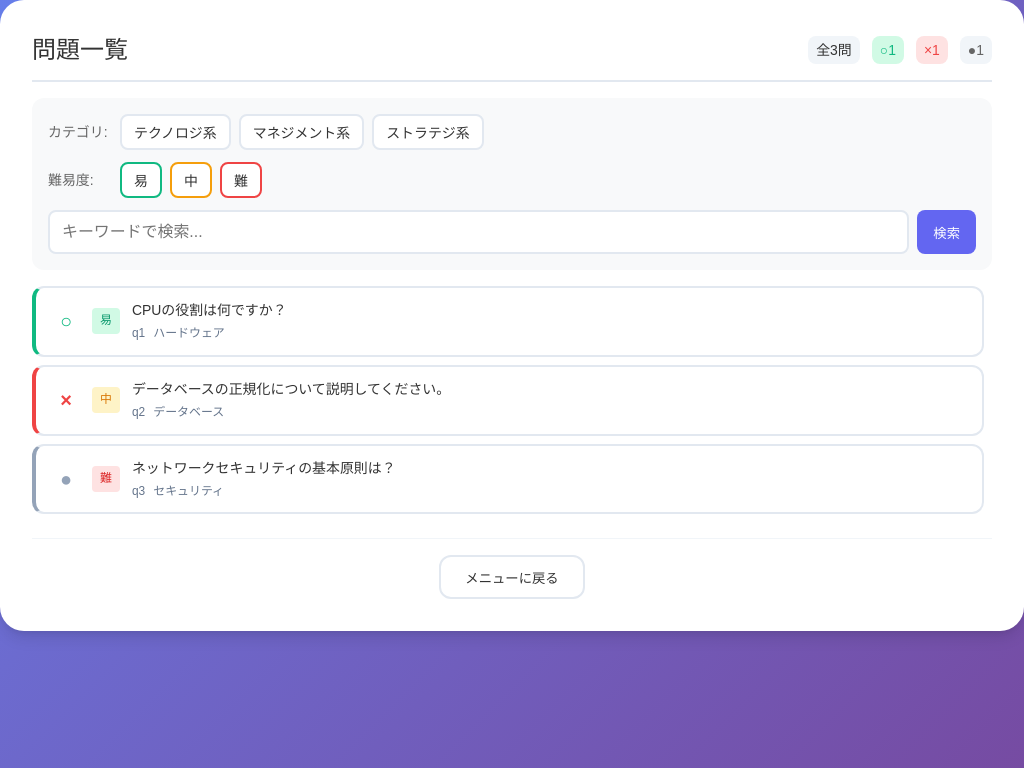
Test: QuestionList › search filter › should show empty message when no results
Expected: the text "CPUの役割は何ですか？" is shown, [132,302,287,318]
Type "NONEXISTENT" into the field with placeholder "キーワードで検索...".
click(479, 232); type("NONEXISTENT")  # box [48,210,909,254]
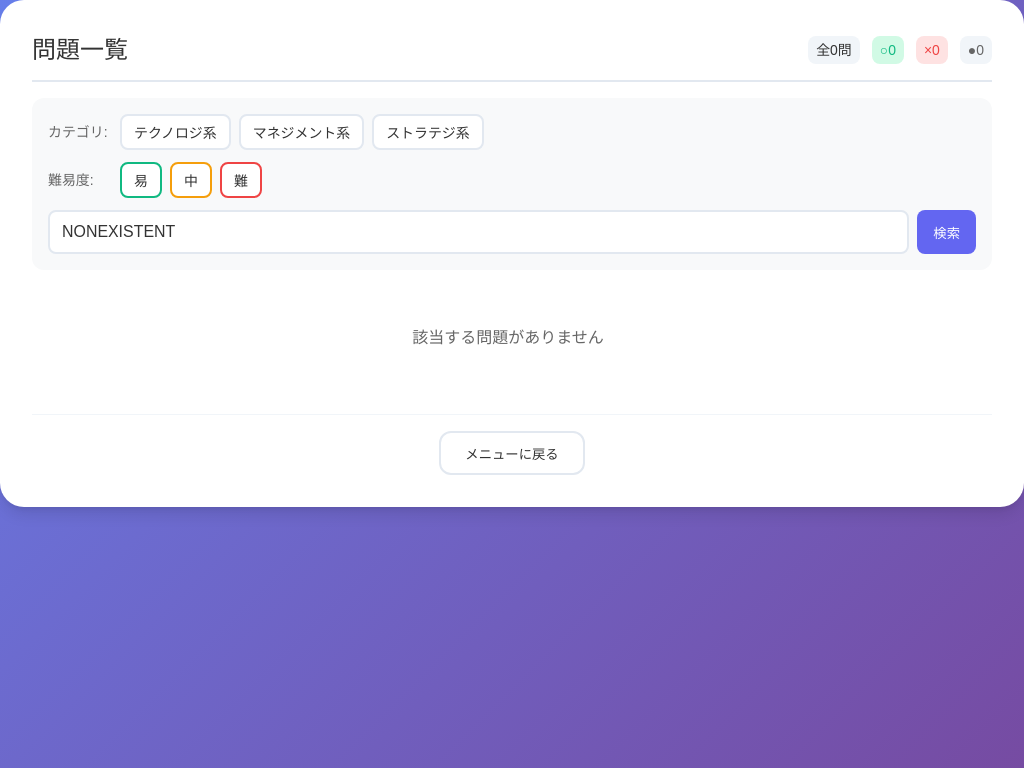
Expected: the text "該当する問題がありません" is shown, [412,329,604,346]
